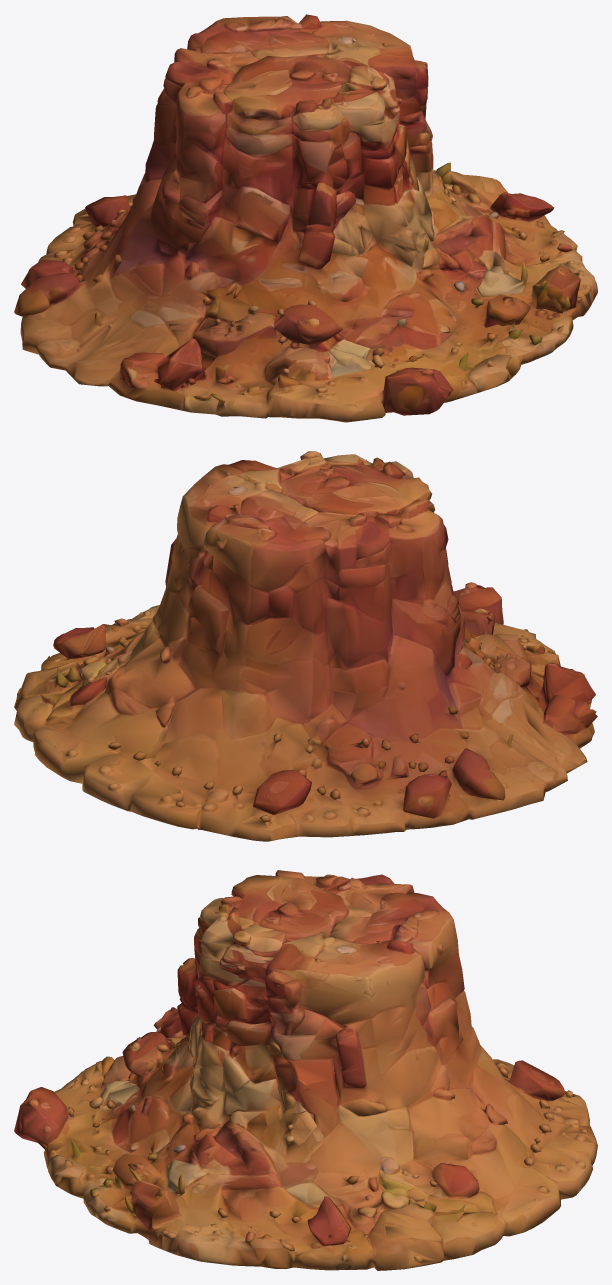
The model's file is env_west_mesa.fbx.
3 views of the same model, one above another, from view 1: azimuth 30°, elevation 25°; view 2: azimuth 150°, elevation 25°; view 3: azimuth 270°, elevation 25° (orthographic). The views are drawn at different scales.
Parts seen in each view (by area): view 1: env_west_mesa_LOD0; view 2: env_west_mesa_LOD0; view 3: env_west_mesa_LOD0.
Part boxes in pixels (box(x1,y1,x2,y2)): env_west_mesa_LOD0: box(14, 14, 597, 422); env_west_mesa_LOD0: box(14, 451, 597, 841); env_west_mesa_LOD0: box(14, 870, 597, 1270).
Size of what is drawn, in the model's own units: 0.9777 by 0.4474 by 0.9814.
